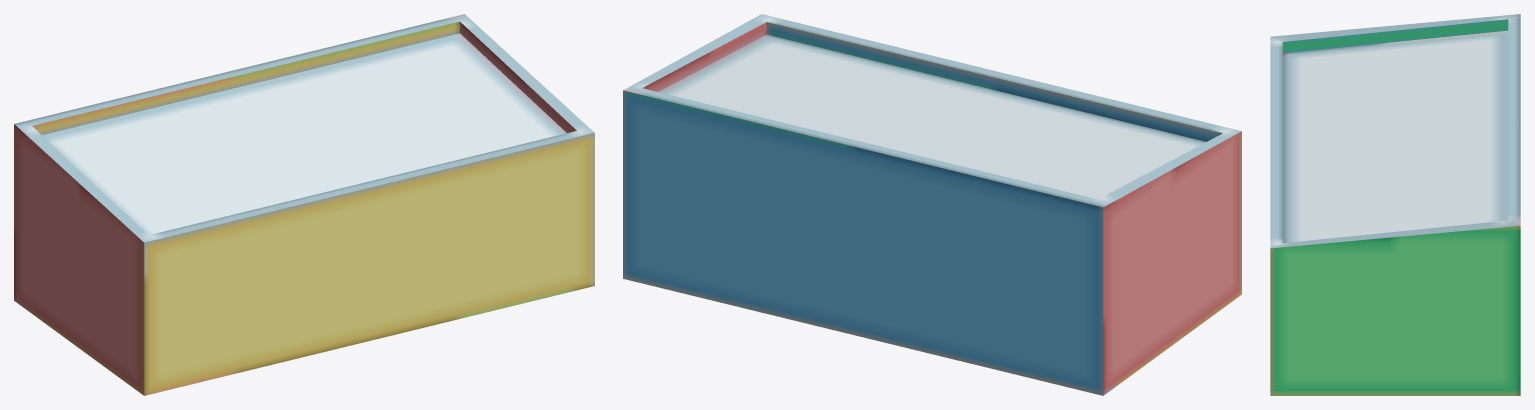
The model's file is Produce Stand.obj.
3 renders of one model, left to right at view 1: azimuth 30°, elevation 25°; view 2: azimuth 150°, elevation 25°; view 3: azimuth 270°, elevation 25°, orthographic. The views are drawn at different scales.
Visible parts, largest first — view 1: Body; view 2: Body; view 3: Body.
Part boxes in pixels (bbox=[...]): Body: bbox=[14, 14, 594, 395]; Body: bbox=[623, 14, 1241, 395]; Body: bbox=[1270, 14, 1520, 395].
Size of the model in its own units: 2.5 by 0.9375 by 1.25.
1 material, 1 textured.
